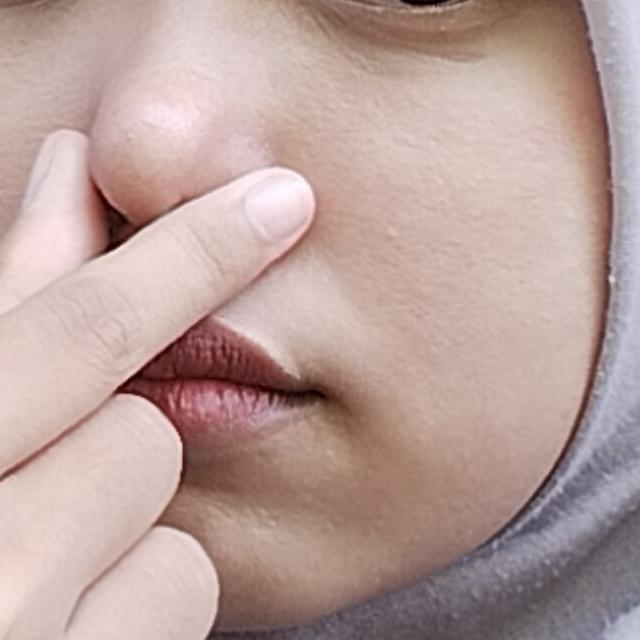bau: (0, 138, 465, 640)
